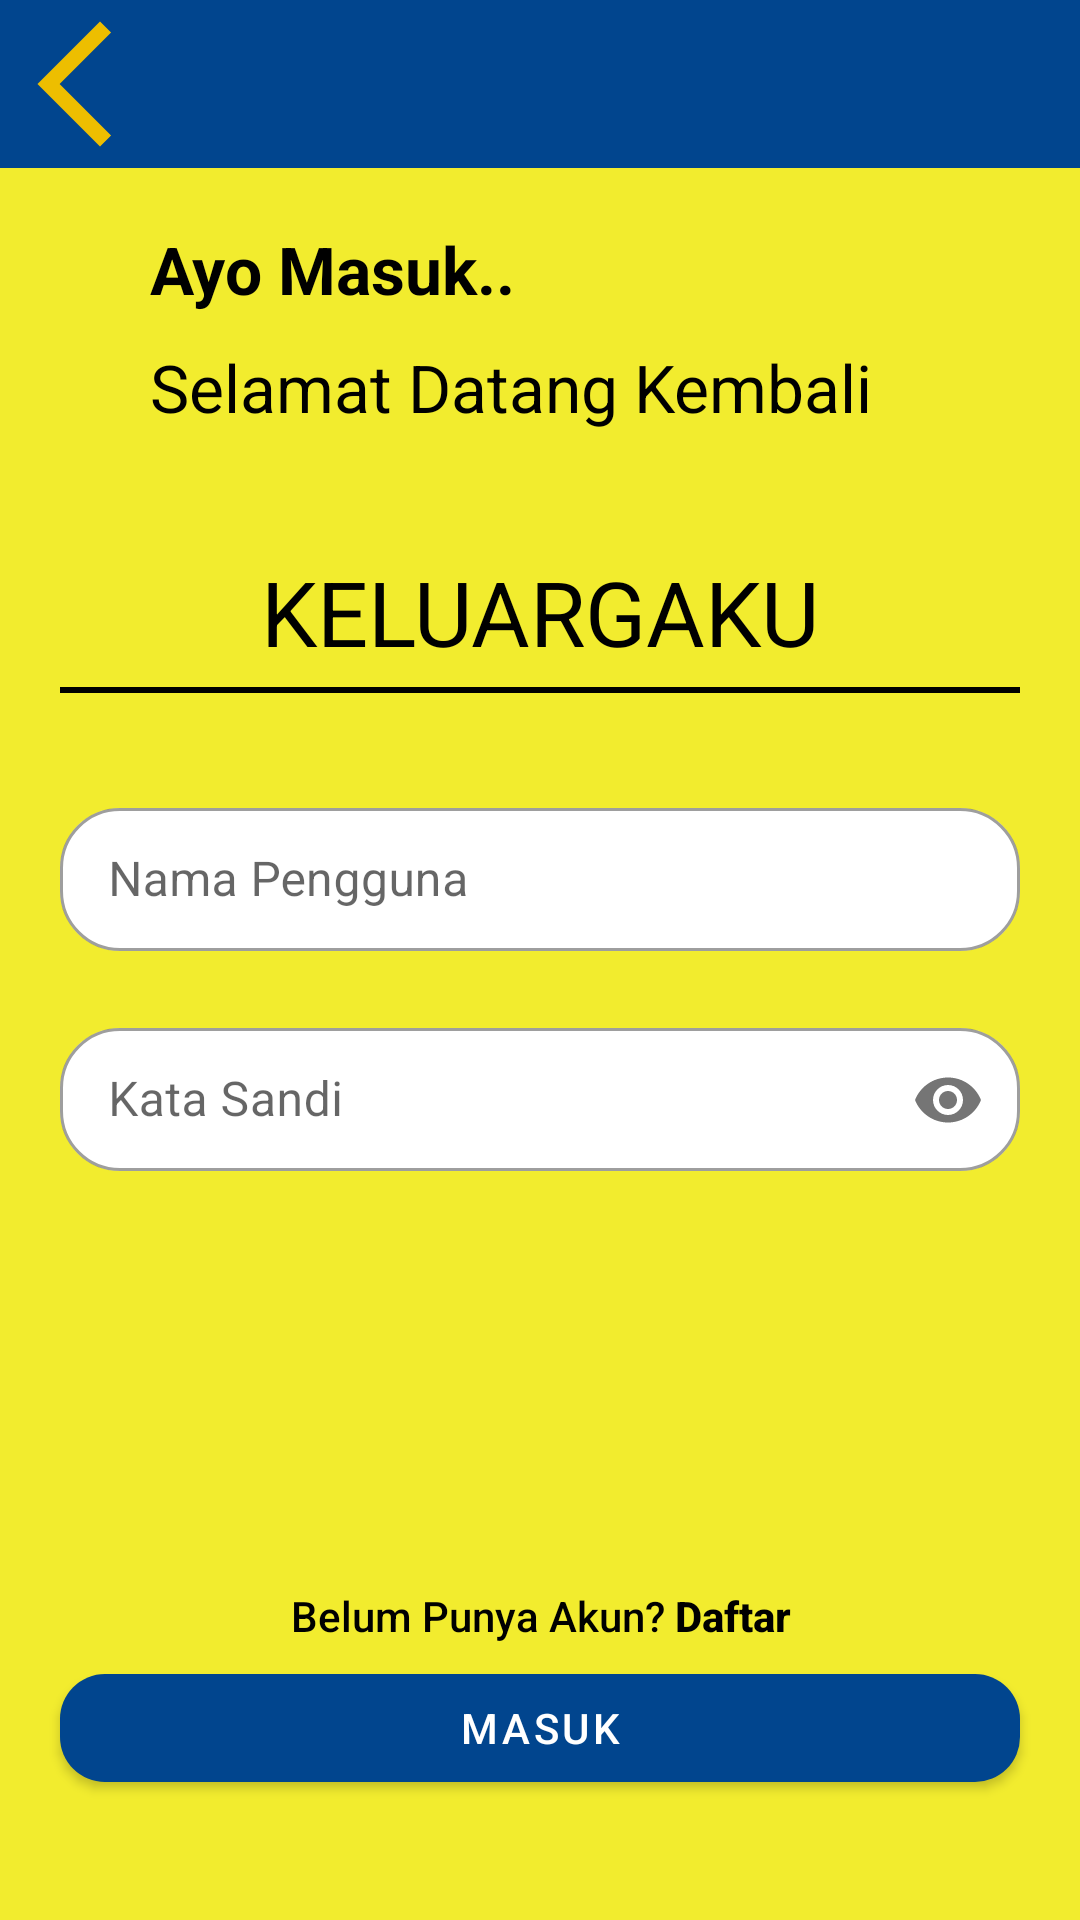

Point at icon controls on the screen. Image size 1080px x 1920px, points as (x,y).
arrow back: (74,84)
